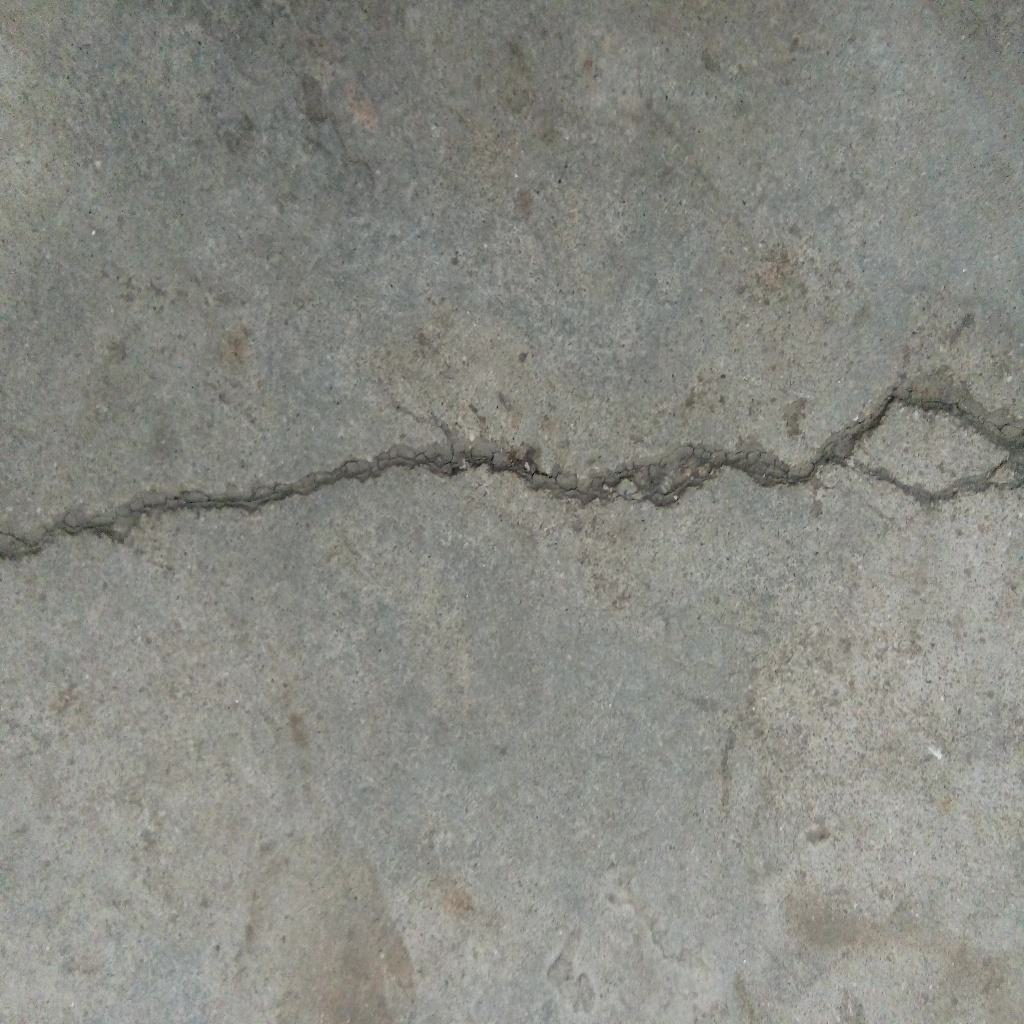Crack: (1, 430, 807, 563)
Spalling: (807, 395, 1024, 509)
